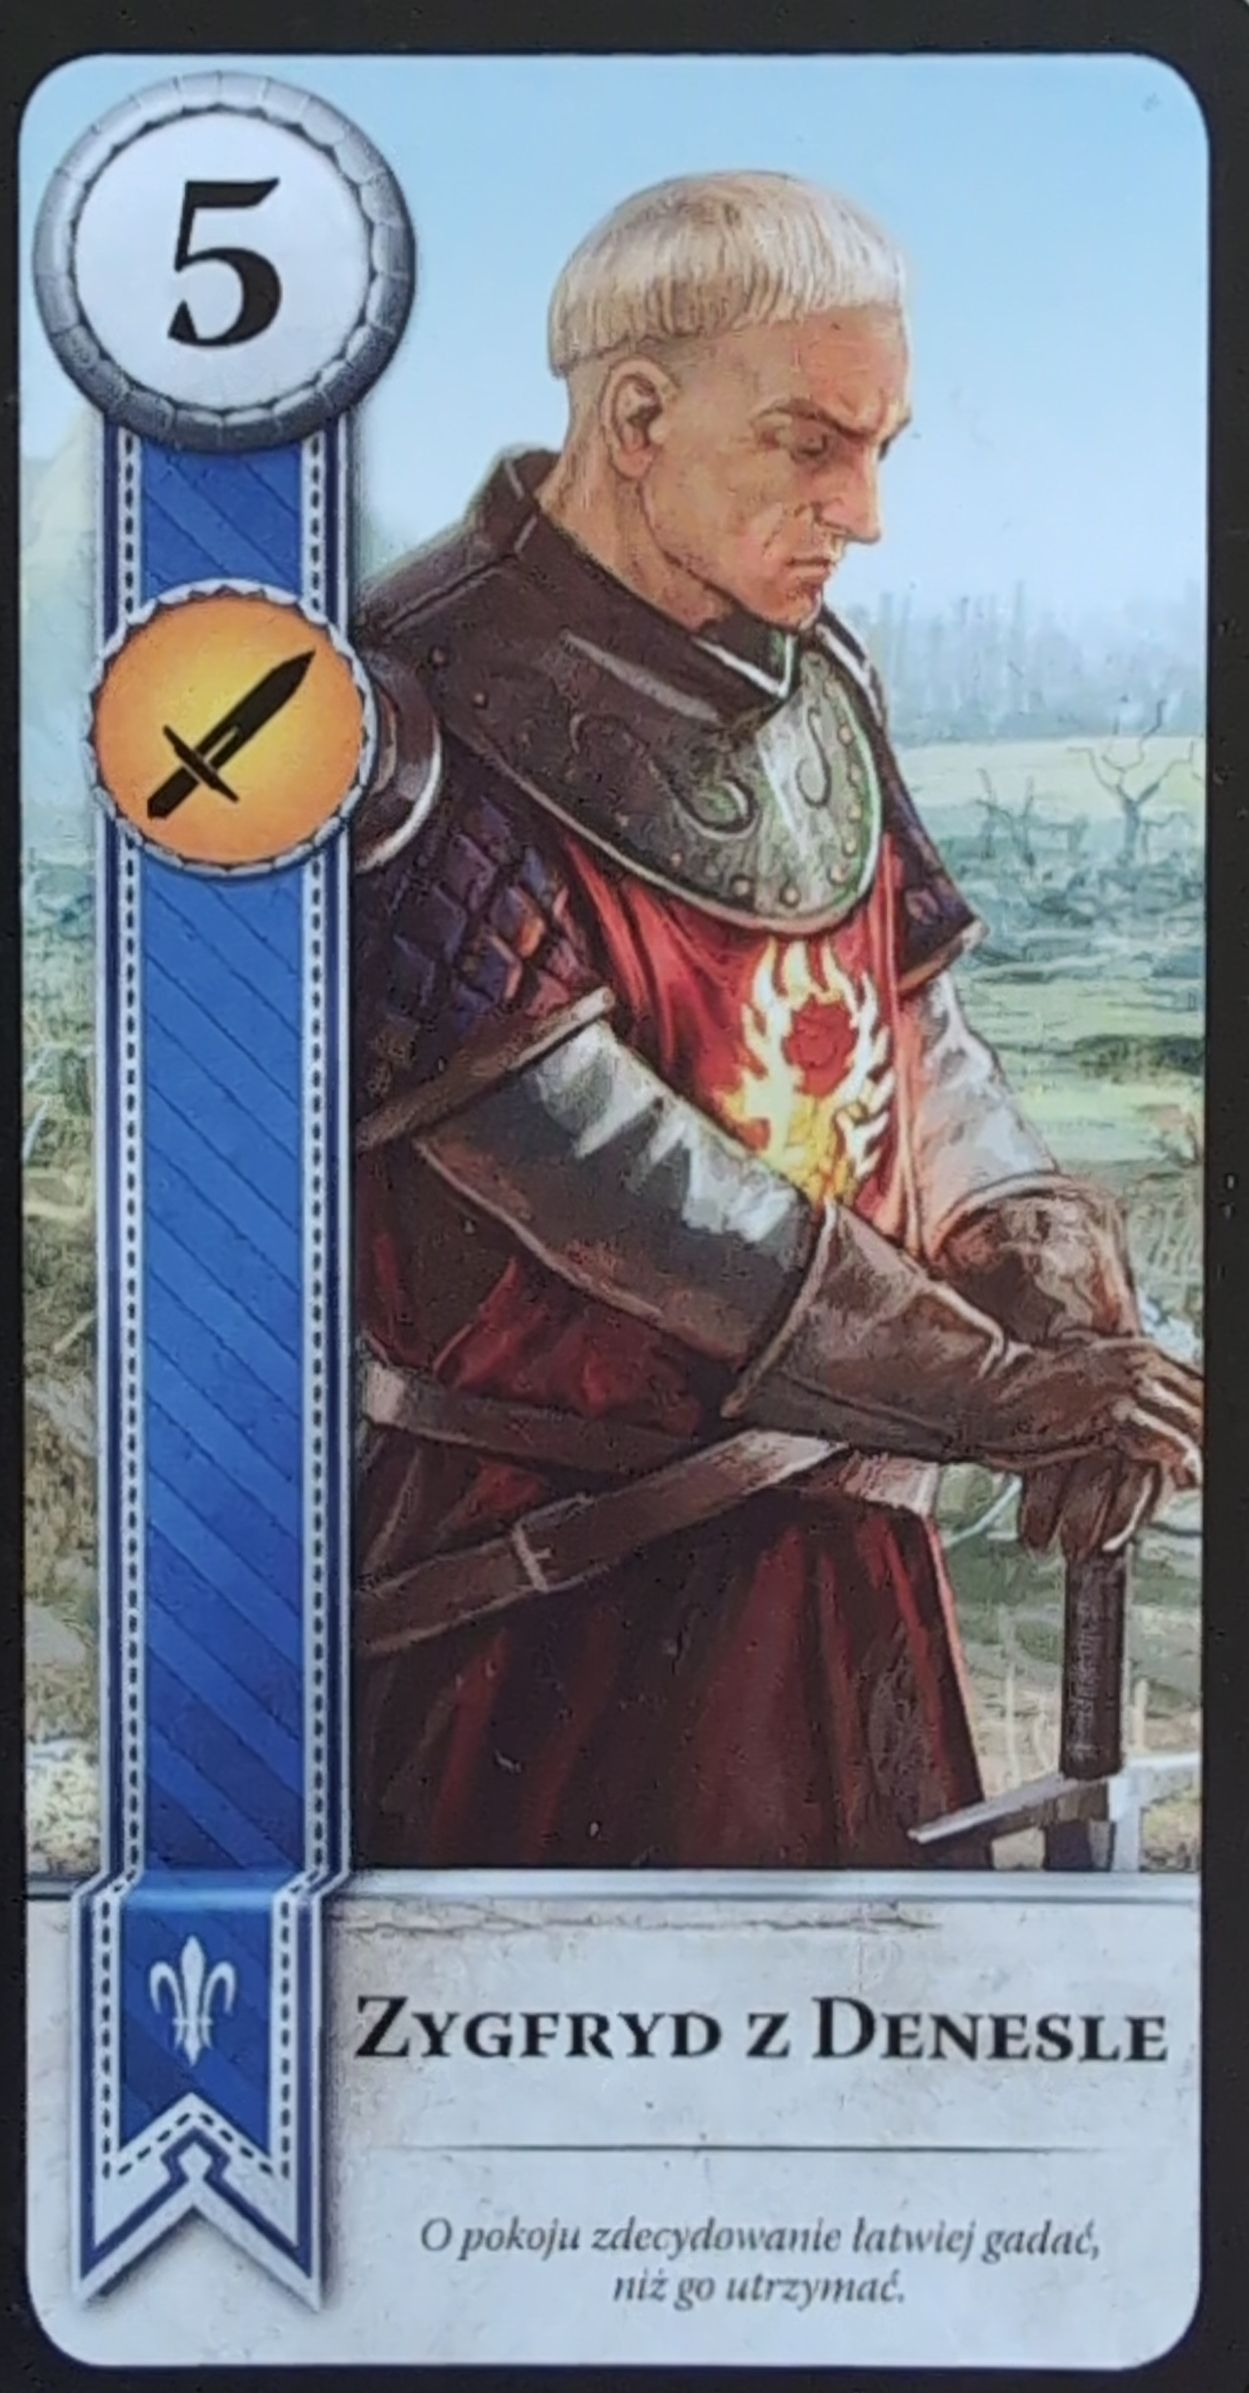miecz: (68, 559, 393, 891)
punkty: (60, 85, 421, 421)
